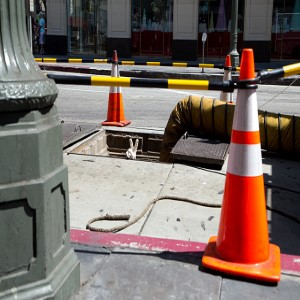traffic cone: (200, 47, 281, 284), (213, 54, 240, 144), (101, 49, 132, 127)
